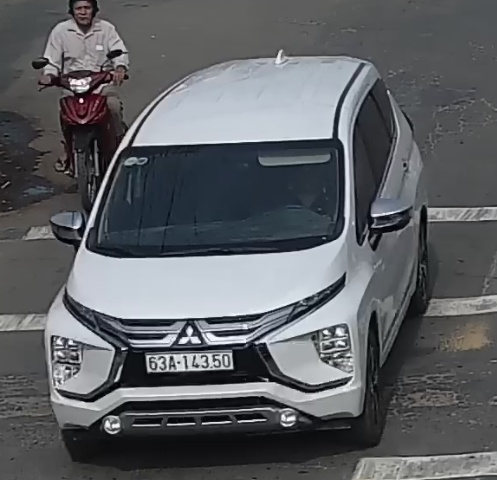vehicle plate: (144, 345, 236, 372)
